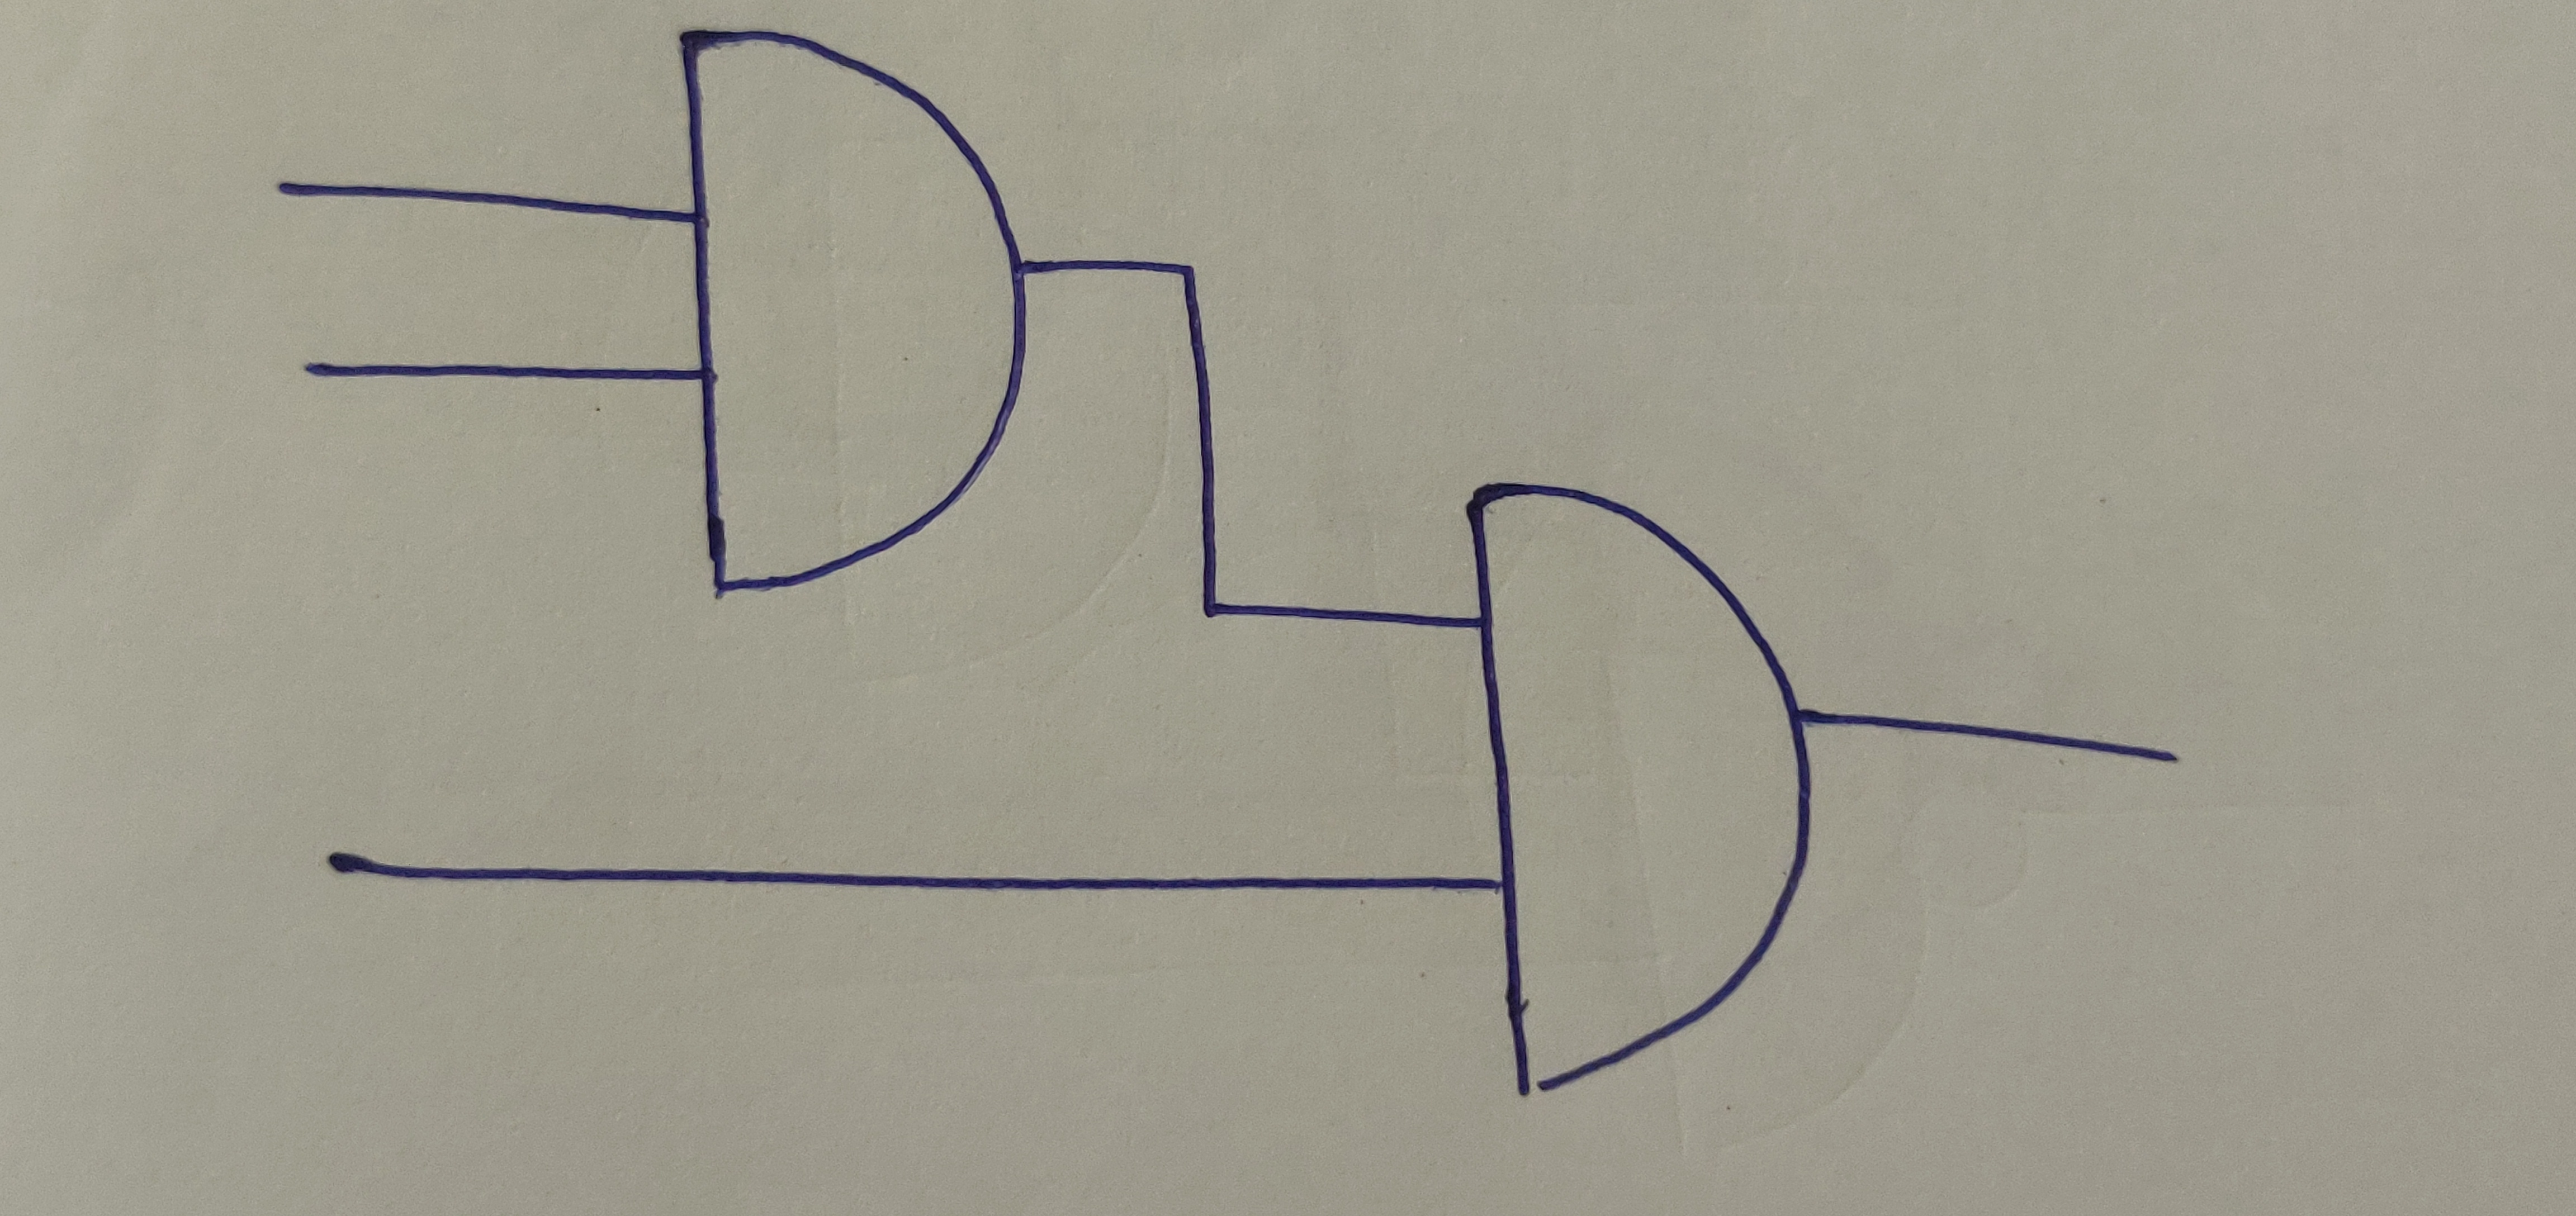and: (1461, 477, 1815, 1094), (670, 26, 1028, 588)
